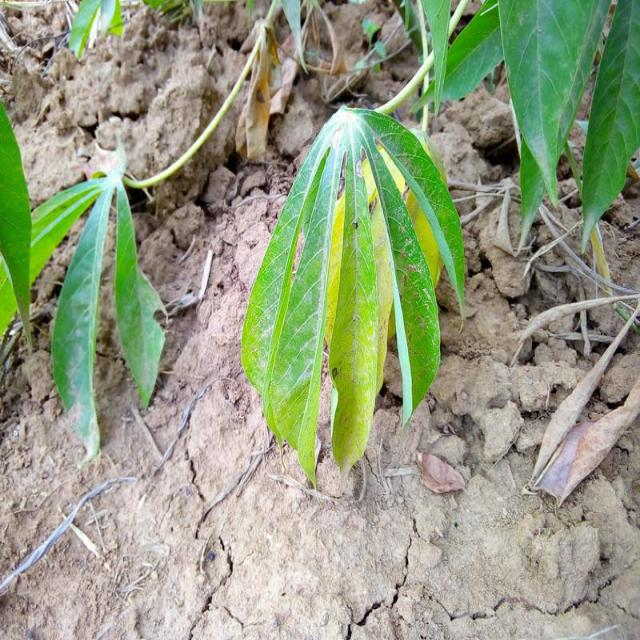cassava leaf: (240, 104, 466, 488)
